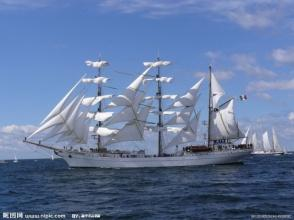fanchuan: (22, 56, 258, 170), (252, 119, 292, 157)
